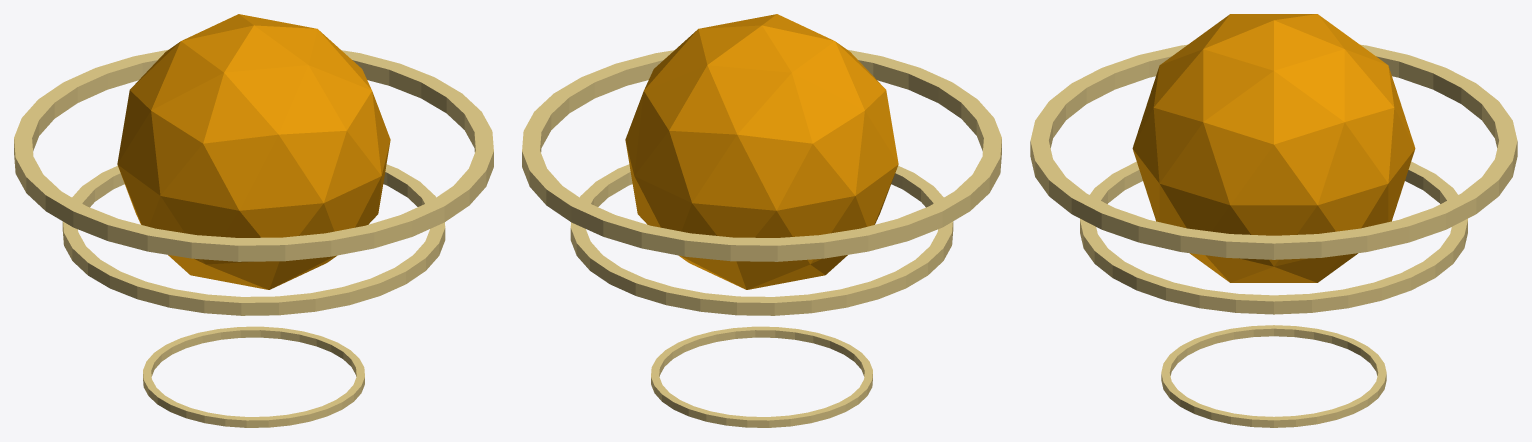
The model's file is fast.fbx.
3 renders of one model, left to right at view 1: azimuth 30°, elevation 25°; view 2: azimuth 150°, elevation 25°; view 3: azimuth 270°, elevation 25°, orthographic.
Parts seen in each view (by area): view 1: Fast; view 2: Fast; view 3: Fast.
Part boxes in pixels (x1,y1,x2,y2): Fast: [14, 14, 493, 427]; Fast: [522, 14, 1001, 427]; Fast: [1030, 14, 1517, 427].
Size of the model in its own units: 344 by 281 by 344.
